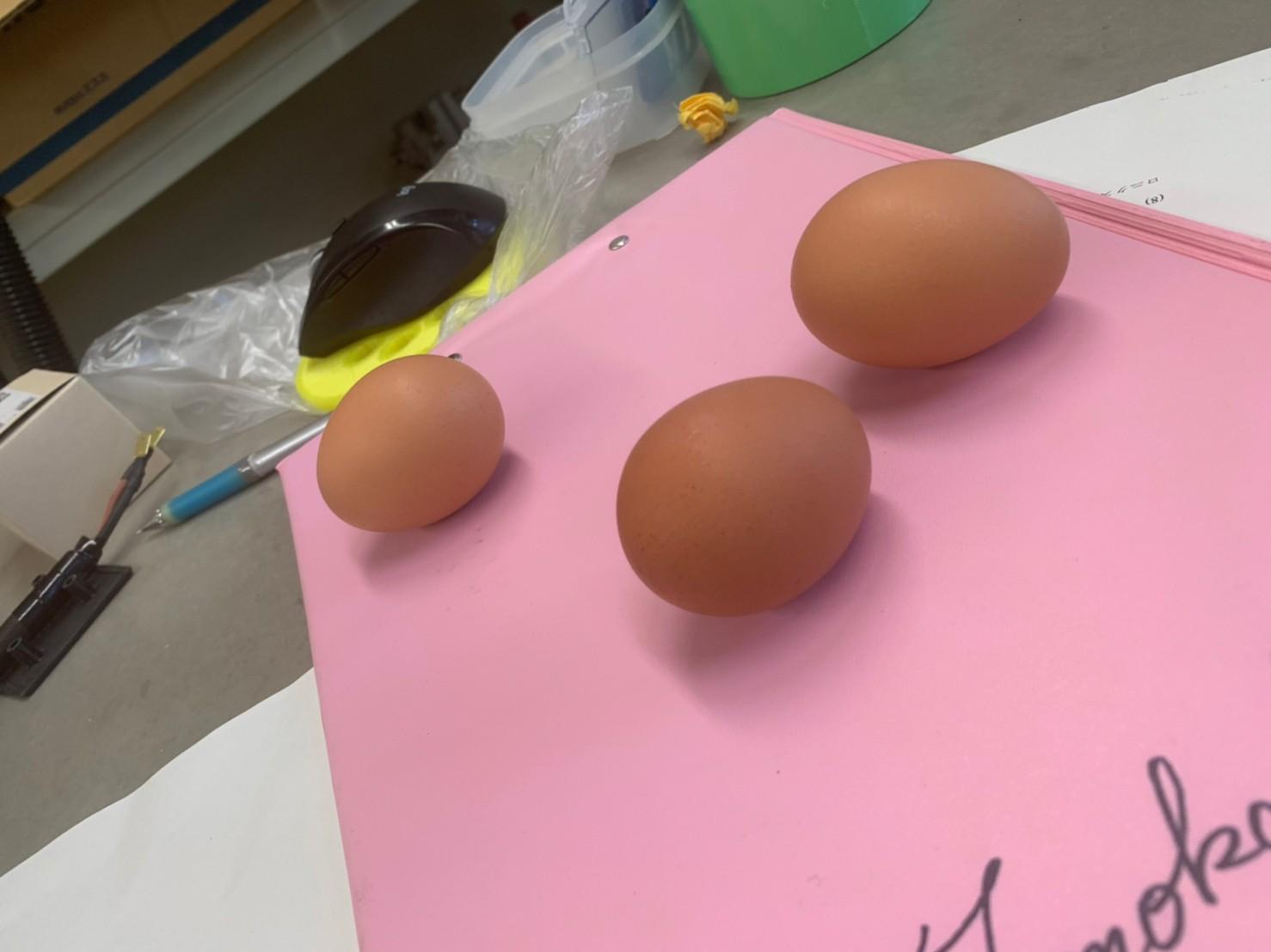egg: (614, 370, 878, 629), (787, 156, 1077, 370), (305, 350, 514, 533)
